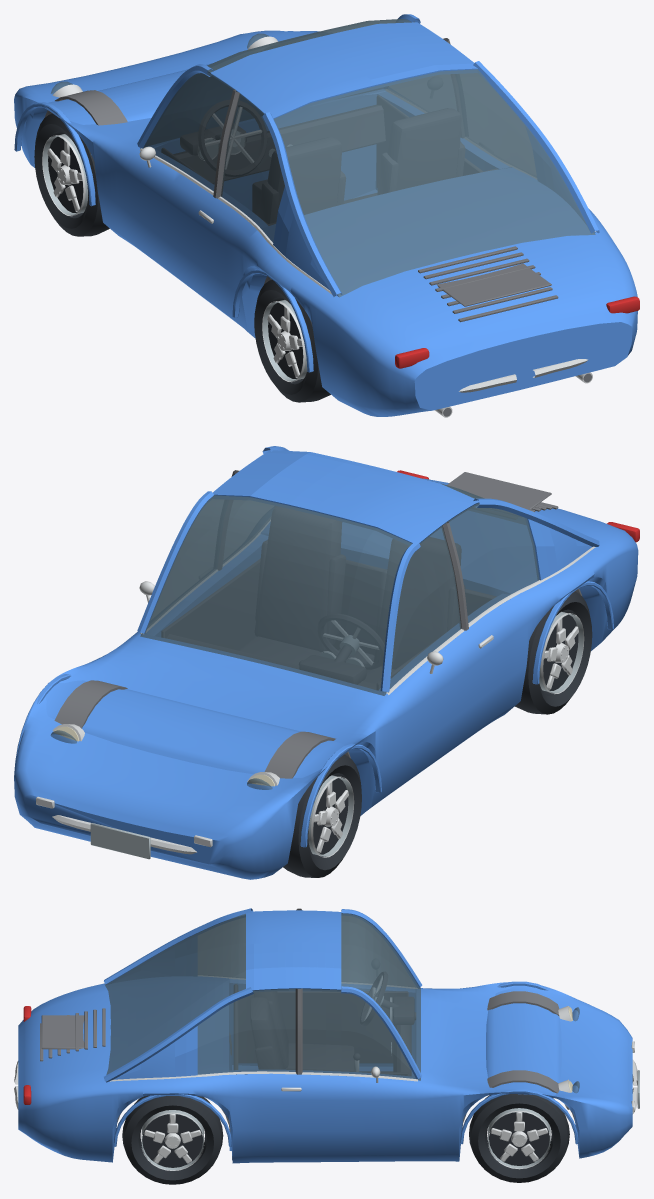
Rendered from Falke.fbx.
3 renders of one model, top to bottom at view 1: azimuth 30°, elevation 25°; view 2: azimuth 150°, elevation 25°; view 3: azimuth 270°, elevation 25°, orthographic. The views are drawn at different scales.
Parts seen in each view (by area): view 1: Body__paint, Body__glass, Body__interior, Body__engine, WheelFL__rubber, WheelRL__rubber, Body__chrome, WheelFL__chrome, WheelRL__chrome, Steer__interior, Body__tail, WheelFL__metal (+1 smaller); view 2: Body__paint, Body__glass, Body__interior, Body__engine, WheelFL__rubber, WheelRL__rubber, Body__chrome, Body__metal, WheelFL__chrome, WheelRL__chrome, Steer__interior, WheelFL__metal (+1 smaller); view 3: Body__paint, Body__glass, Body__interior, WheelFR__rubber, WheelRR__rubber, Body__engine, Body__chrome, WheelRR__chrome, WheelFR__chrome, WheelRR__metal, WheelFR__metal, Steer__interior.
Boxes of the visible parts, left/top/right/bottom form: Body__paint: left=14, top=14, right=637, bottom=416; Body__glass: left=51, top=19, right=595, bottom=297; Body__interior: left=161, top=95, right=496, bottom=225; Body__engine: left=44, top=38, right=591, bottom=416; WheelFL__rubber: left=34, top=113, right=109, bottom=236; WheelRL__rubber: left=254, top=279, right=330, bottom=402; Body__chrome: left=52, top=36, right=595, bottom=417; WheelFL__chrome: left=42, top=135, right=85, bottom=216; WheelRL__chrome: left=262, top=301, right=305, bottom=382; Steer__interior: left=198, top=100, right=266, bottom=176; Body__tail: left=395, top=296, right=639, bottom=368; WheelFL__metal: left=42, top=134, right=87, bottom=215; Body__paint: left=14, top=446, right=638, bottom=879; Body__glass: left=50, top=476, right=539, bottom=789; Body__interior: left=161, top=506, right=495, bottom=689; Body__engine: left=54, top=470, right=581, bottom=778; WheelFL__rubber: left=283, top=754, right=361, bottom=877; WheelRL__rubber: left=515, top=591, right=592, bottom=714; Body__chrome: left=36, top=520, right=595, bottom=854; Body__metal: left=90, top=652, right=361, bottom=859; WheelFL__chrome: left=311, top=776, right=354, bottom=857; WheelRL__chrome: left=541, top=613, right=584, bottom=694; Steer__interior: left=318, top=614, right=384, bottom=669; WheelFL__metal: left=308, top=775, right=353, bottom=856; Body__paint: left=18, top=908, right=632, bottom=1163; Body__glass: left=104, top=913, right=579, bottom=1093; Body__interior: left=232, top=984, right=415, bottom=1159; WheelFR__rubber: left=469, top=1094, right=569, bottom=1182; WheelRR__rubber: left=122, top=1095, right=223, bottom=1184; Body__engine: left=40, top=908, right=574, bottom=1131; Body__chrome: left=14, top=975, right=637, bottom=1113; WheelRR__chrome: left=141, top=1112, right=204, bottom=1170; WheelFR__chrome: left=487, top=1110, right=551, bottom=1169; WheelRR__metal: left=141, top=1110, right=203, bottom=1170; WheelFR__metal: left=488, top=1108, right=550, bottom=1168; Steer__interior: left=360, top=972, right=387, bottom=1026.
Size of the model in its own units: 1.75 by 1.36 by 4.01.
